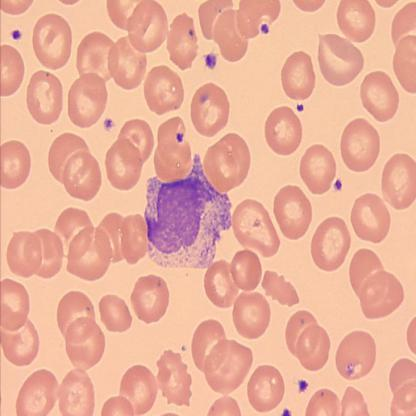Myelocyte: (145, 153, 231, 267)
